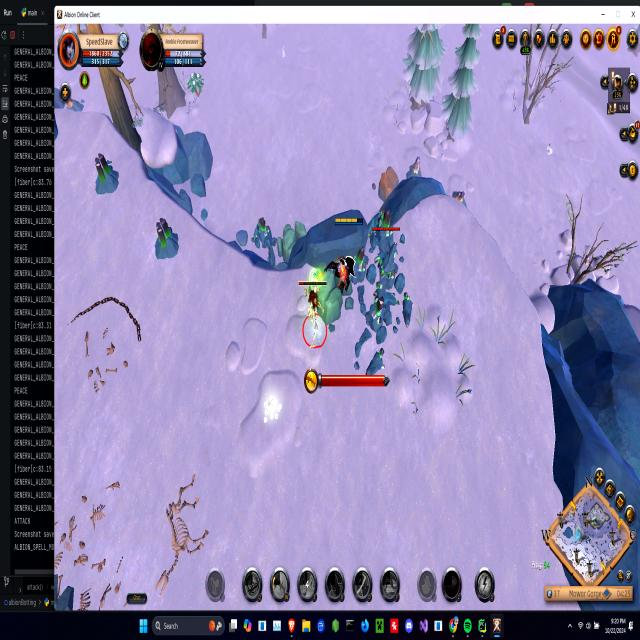hide: (186, 68, 204, 99)
ore: (361, 206, 404, 288), (295, 277, 332, 351), (251, 214, 279, 270)
player: (344, 284, 408, 402), (148, 211, 185, 265), (89, 142, 122, 198), (408, 152, 427, 186), (451, 181, 468, 212)
red: (322, 212, 364, 302)
stone: (260, 388, 286, 432)
tree: (276, 217, 308, 265), (374, 160, 402, 206)
